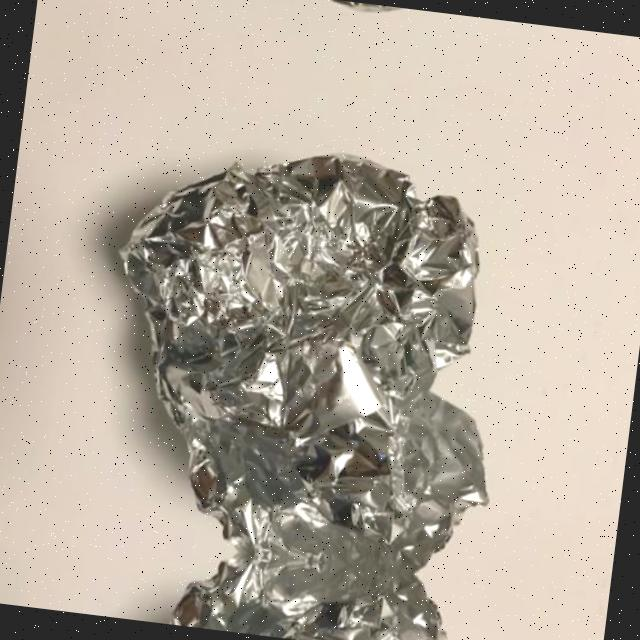Metal: (96, 125, 528, 582), (85, 533, 478, 640), (162, 0, 547, 37)
